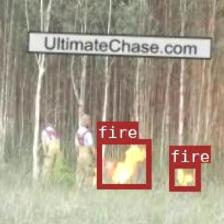fire: (96, 138, 150, 188), (168, 162, 200, 190)
